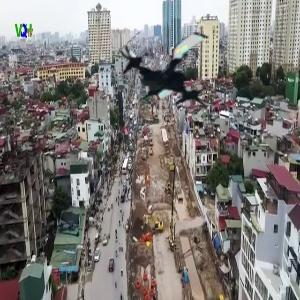drone: (121, 13, 236, 128)
